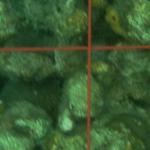dead: (8, 6, 147, 147)
